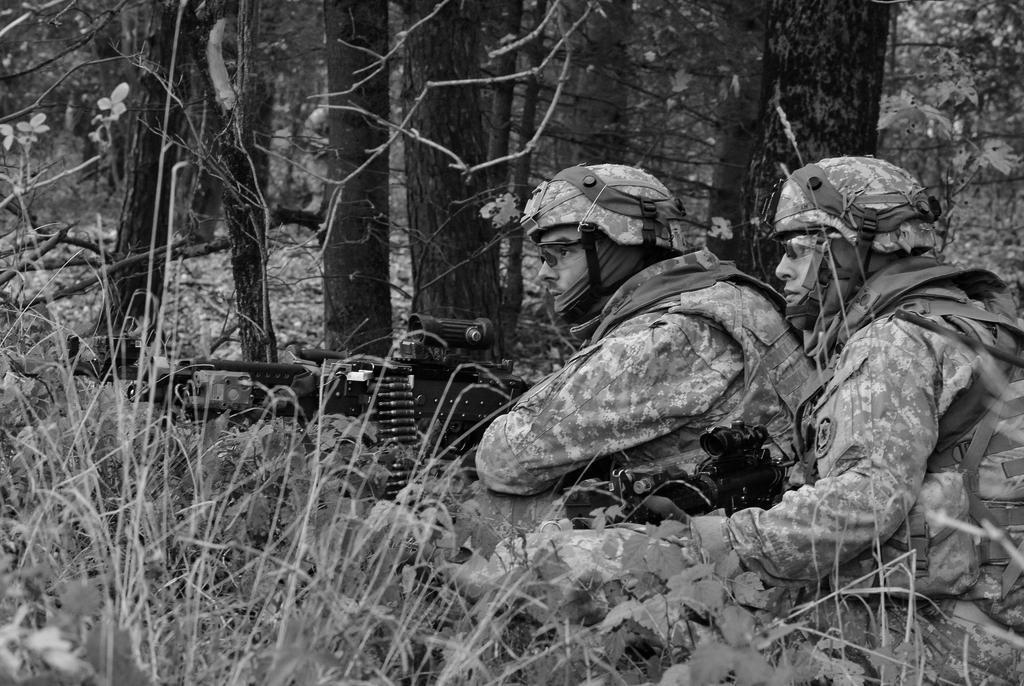gun: (108, 312, 556, 482)
